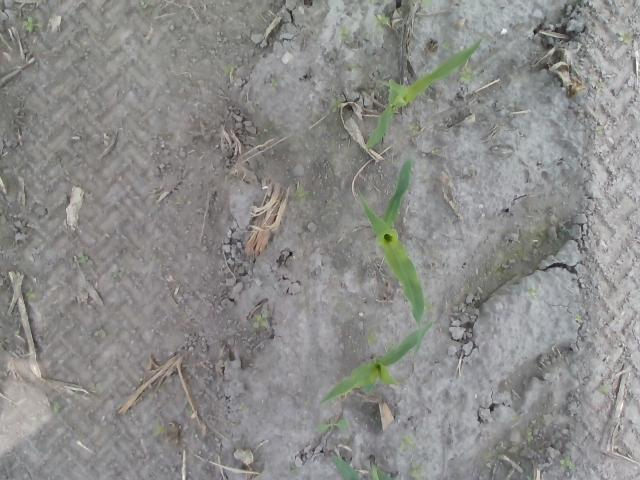Maize: (363, 36, 483, 152), (358, 158, 424, 329), (320, 321, 434, 405), (330, 454, 398, 480)
Weeds: (315, 420, 349, 436), (290, 184, 312, 206), (253, 310, 270, 331), (618, 27, 636, 46), (372, 14, 393, 30), (22, 17, 42, 33), (459, 67, 474, 87), (74, 252, 94, 266), (400, 434, 414, 454), (329, 98, 343, 112), (151, 424, 163, 439), (560, 458, 574, 470), (339, 25, 349, 41), (27, 286, 37, 302), (93, 328, 106, 340), (222, 63, 234, 75), (410, 470, 424, 480), (269, 78, 279, 91), (600, 383, 612, 393), (290, 463, 302, 473), (420, 0, 432, 8), (574, 315, 584, 324), (54, 403, 62, 414), (526, 290, 536, 298), (176, 196, 184, 206), (138, 0, 148, 8), (596, 125, 603, 136)
